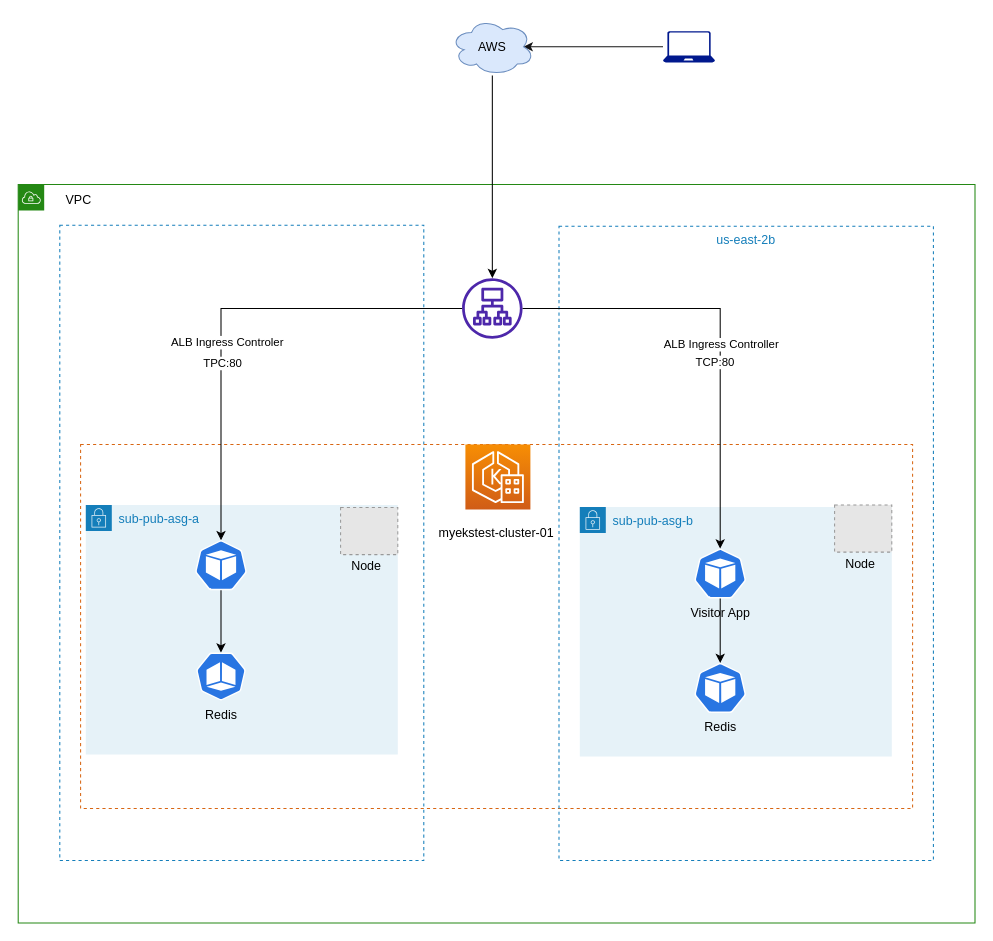
This 993x941 diagram has some shape labels left out. Grey dashed boxes stand in for pictures. The box of each missing label's shape, as (x1, y1, x2, y2) in pixels:
ALB: (462, 278, 522, 338)
us-east-2a: (59, 224, 424, 861)
User: (662, 31, 714, 62)
Visitor -App: (194, 539, 247, 590)
